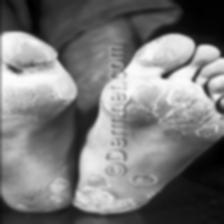Non-Cancerous Skin Condition: (0, 84, 67, 120), (122, 83, 166, 129), (166, 88, 209, 128), (78, 190, 131, 208), (12, 41, 48, 66), (149, 45, 178, 63)
